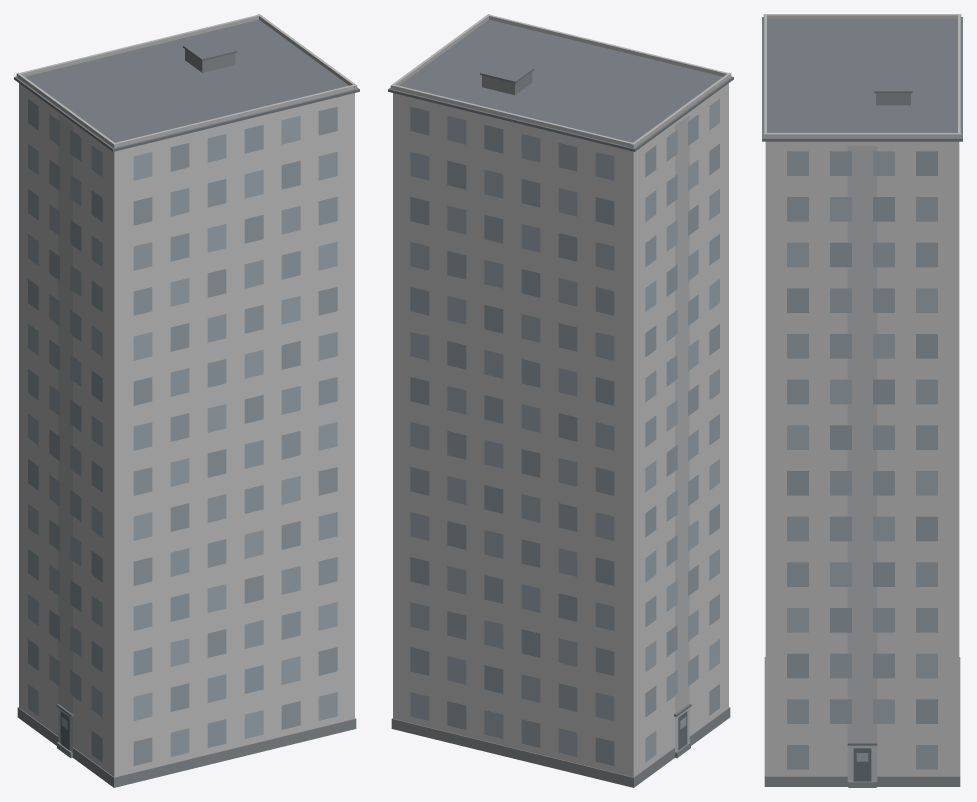
Rendered from tower_2.glb.
The picture shows the model from 3 angles, left to right: view 1: azimuth 30°, elevation 25°; view 2: azimuth 150°, elevation 25°; view 3: azimuth 270°, elevation 25°; orthographic projection.
Parts seen in each view (by area): view 1: tower_2; view 2: tower_2; view 3: tower_2.
Boxes of the visible parts, x1,y1,x2,y2 form: tower_2: (14, 14, 359, 787); tower_2: (388, 14, 733, 787); tower_2: (762, 14, 962, 787).
Size of the model in its own units: 16.4 by 41.57 by 11.4.
